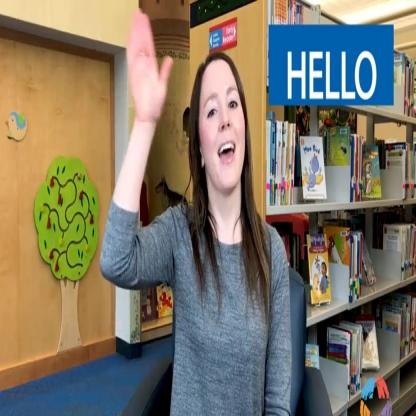Hello: (114, 9, 256, 299)
